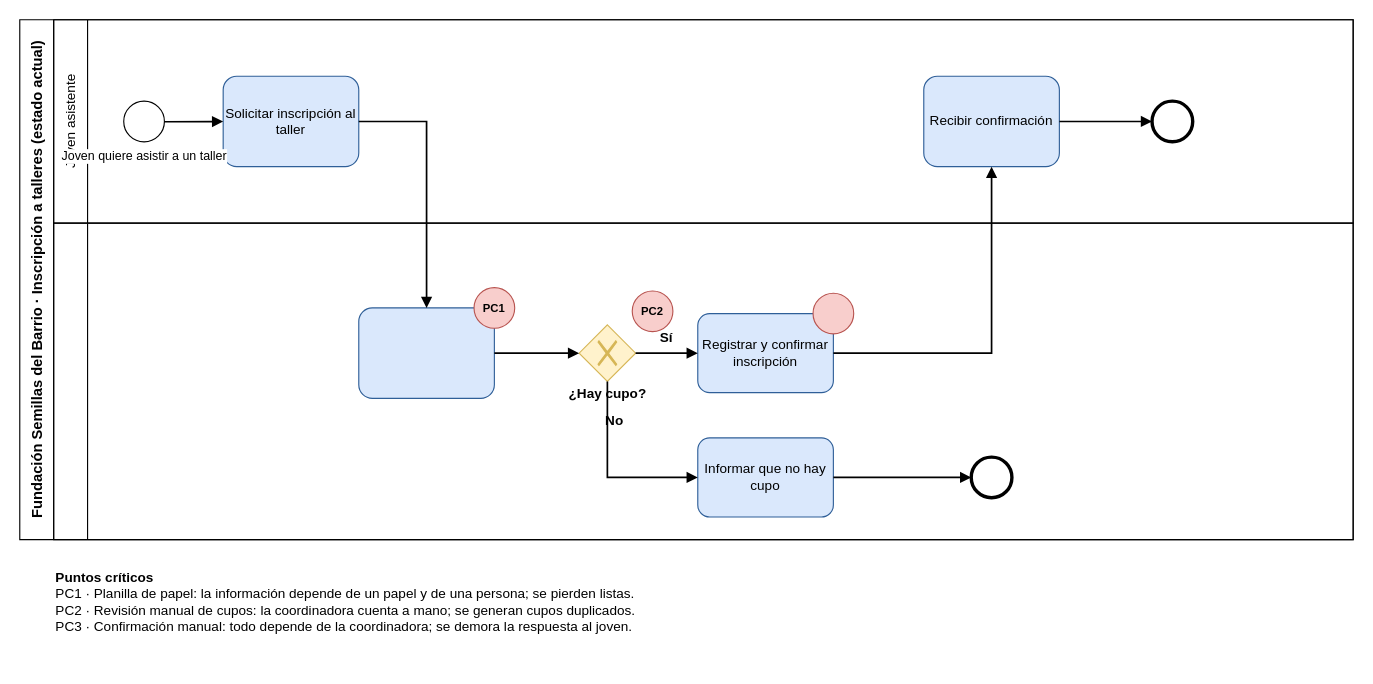
Image size: 1373x684. Some labels were removed from this diagram. The shapes that lost their labels are listed below. From the top down, each one's box as (x1, y1, x2, y2) in pixels, then its label:
(1151, 100, 1193, 142): Joven inscrito
(812, 292, 854, 334): PC3
(358, 307, 494, 398): Anotar datos en planilla de papel
(53, 222, 1353, 540): Coordinadora de talleres
(970, 456, 1012, 498): Joven sin inscripción
